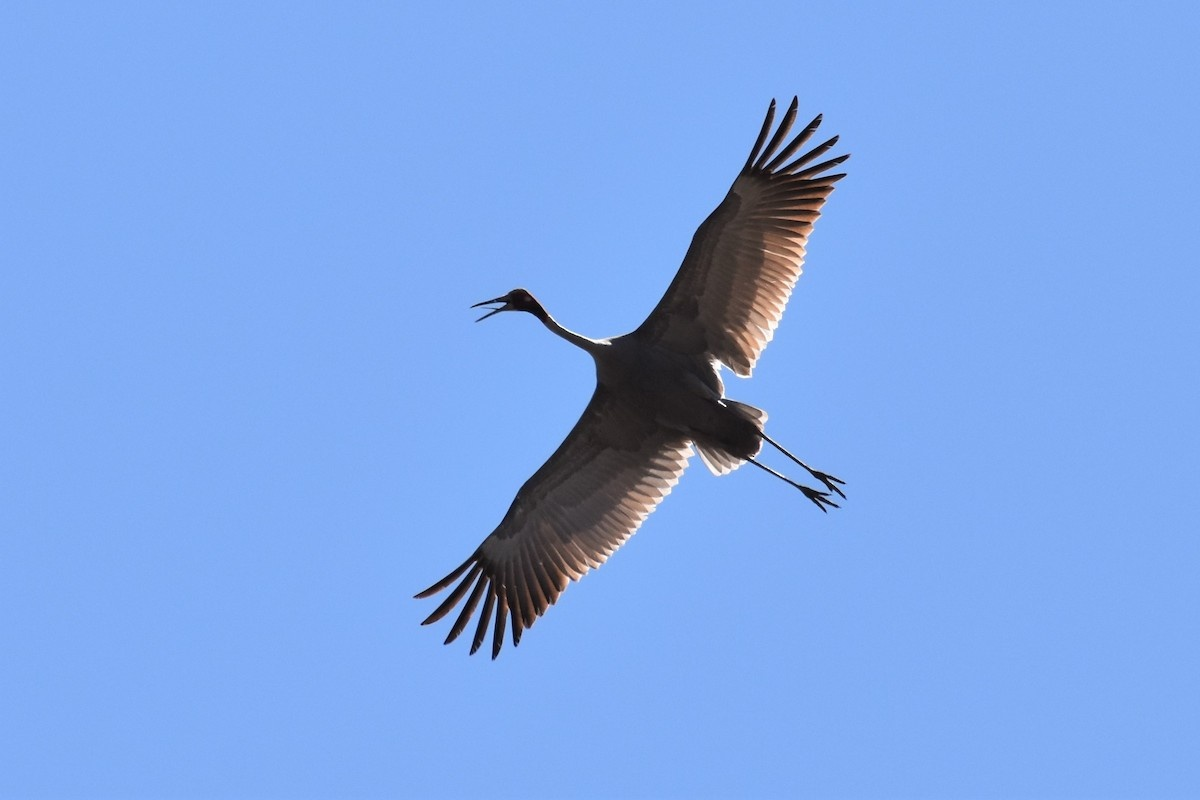crane: (426, 96, 909, 656)
